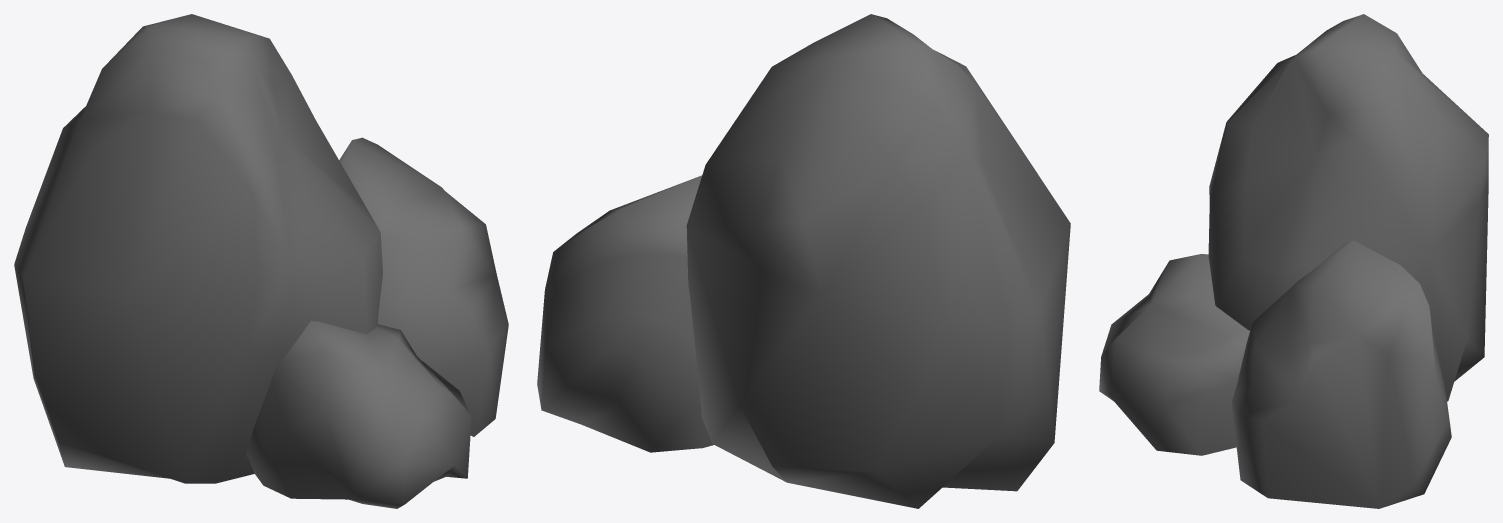
File: Piedra_4_FBX.fbx
3 views of the same model, side by side, from view 1: azimuth 30°, elevation 25°; view 2: azimuth 150°, elevation 25°; view 3: azimuth 270°, elevation 25° (orthographic). The views are drawn at different scales.
Visible parts, largest first — view 1: Piedra_4; view 2: Piedra_4; view 3: Piedra_4.
Boxes of the visible parts, bbox=[...] form: Piedra_4: bbox=[14, 14, 508, 508]; Piedra_4: bbox=[537, 14, 1070, 508]; Piedra_4: bbox=[1099, 14, 1488, 508].
Bounding box in the file's own units: 2.21 × 1.97 × 1.91.
